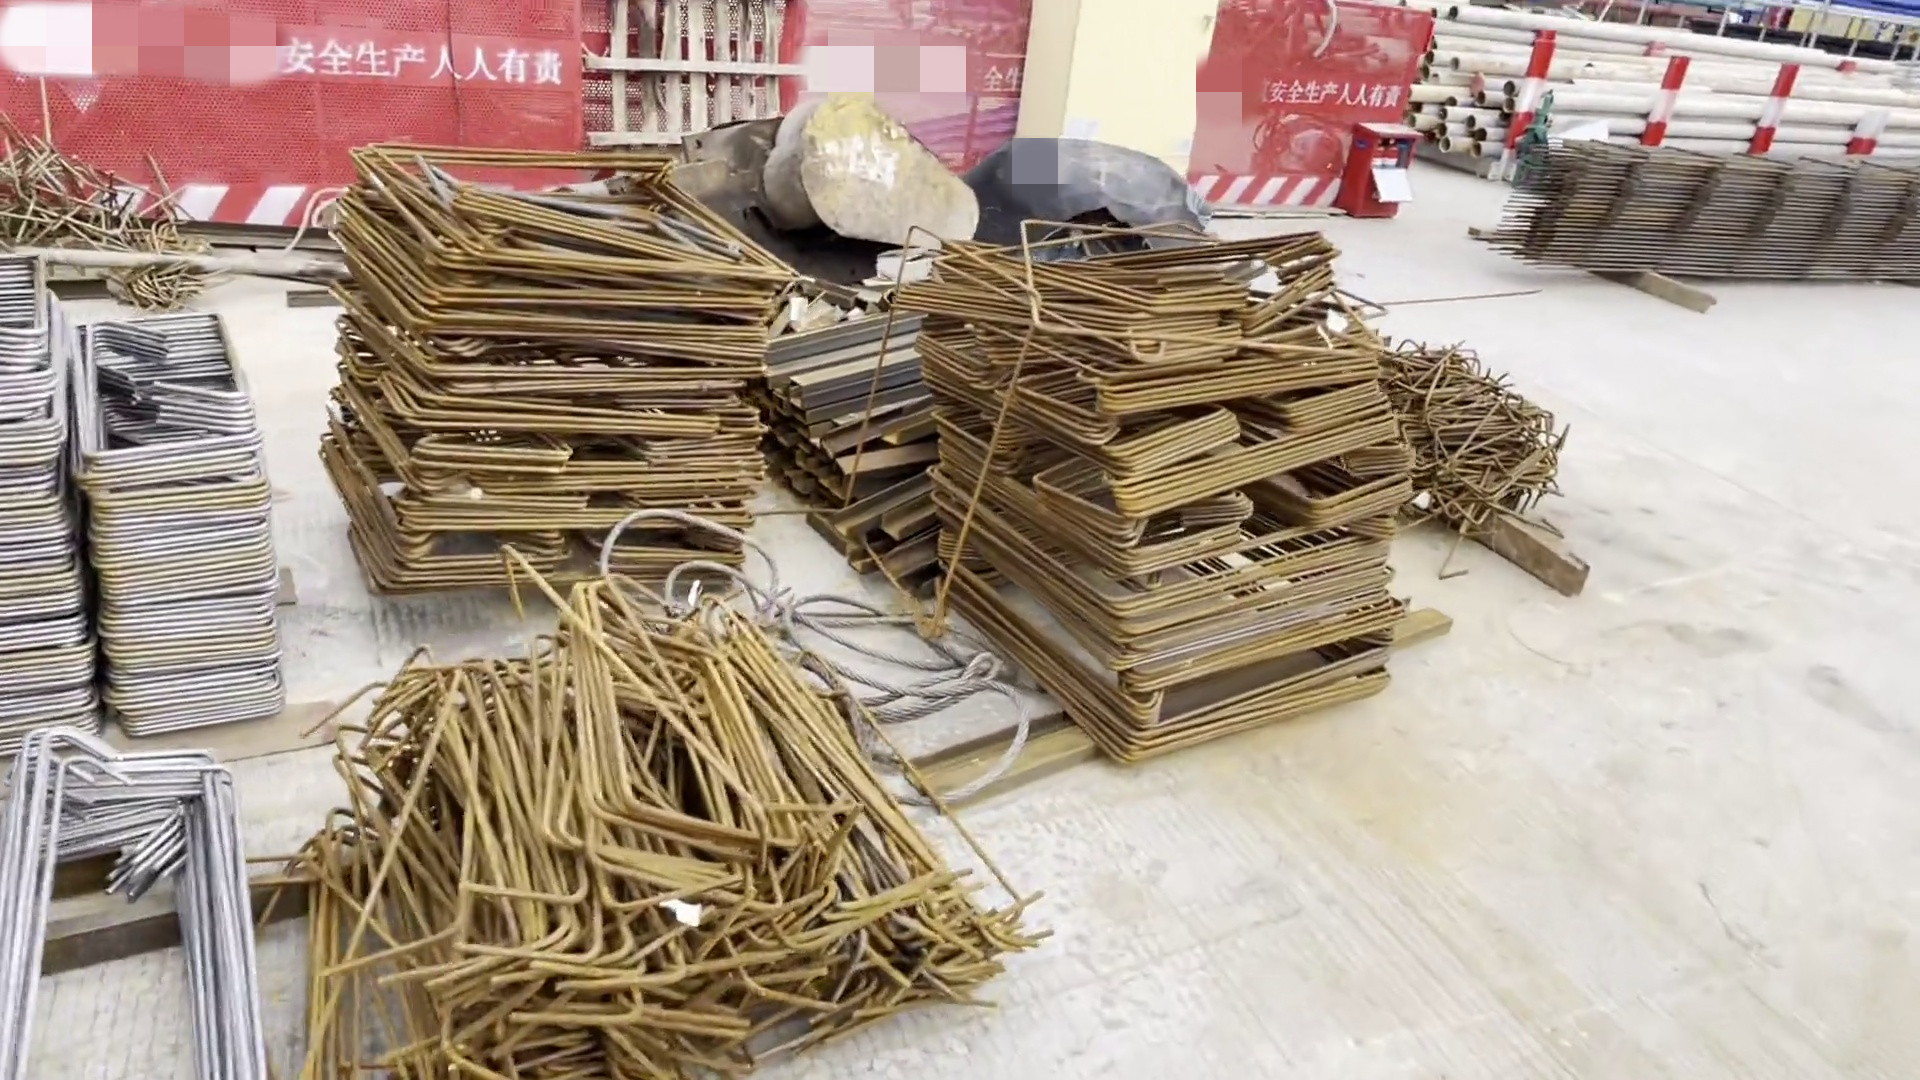ebox: (1034, 4, 1203, 185)
fence: (790, 5, 1423, 199), (4, 1, 560, 218)
rebar: (1509, 135, 1920, 282)
